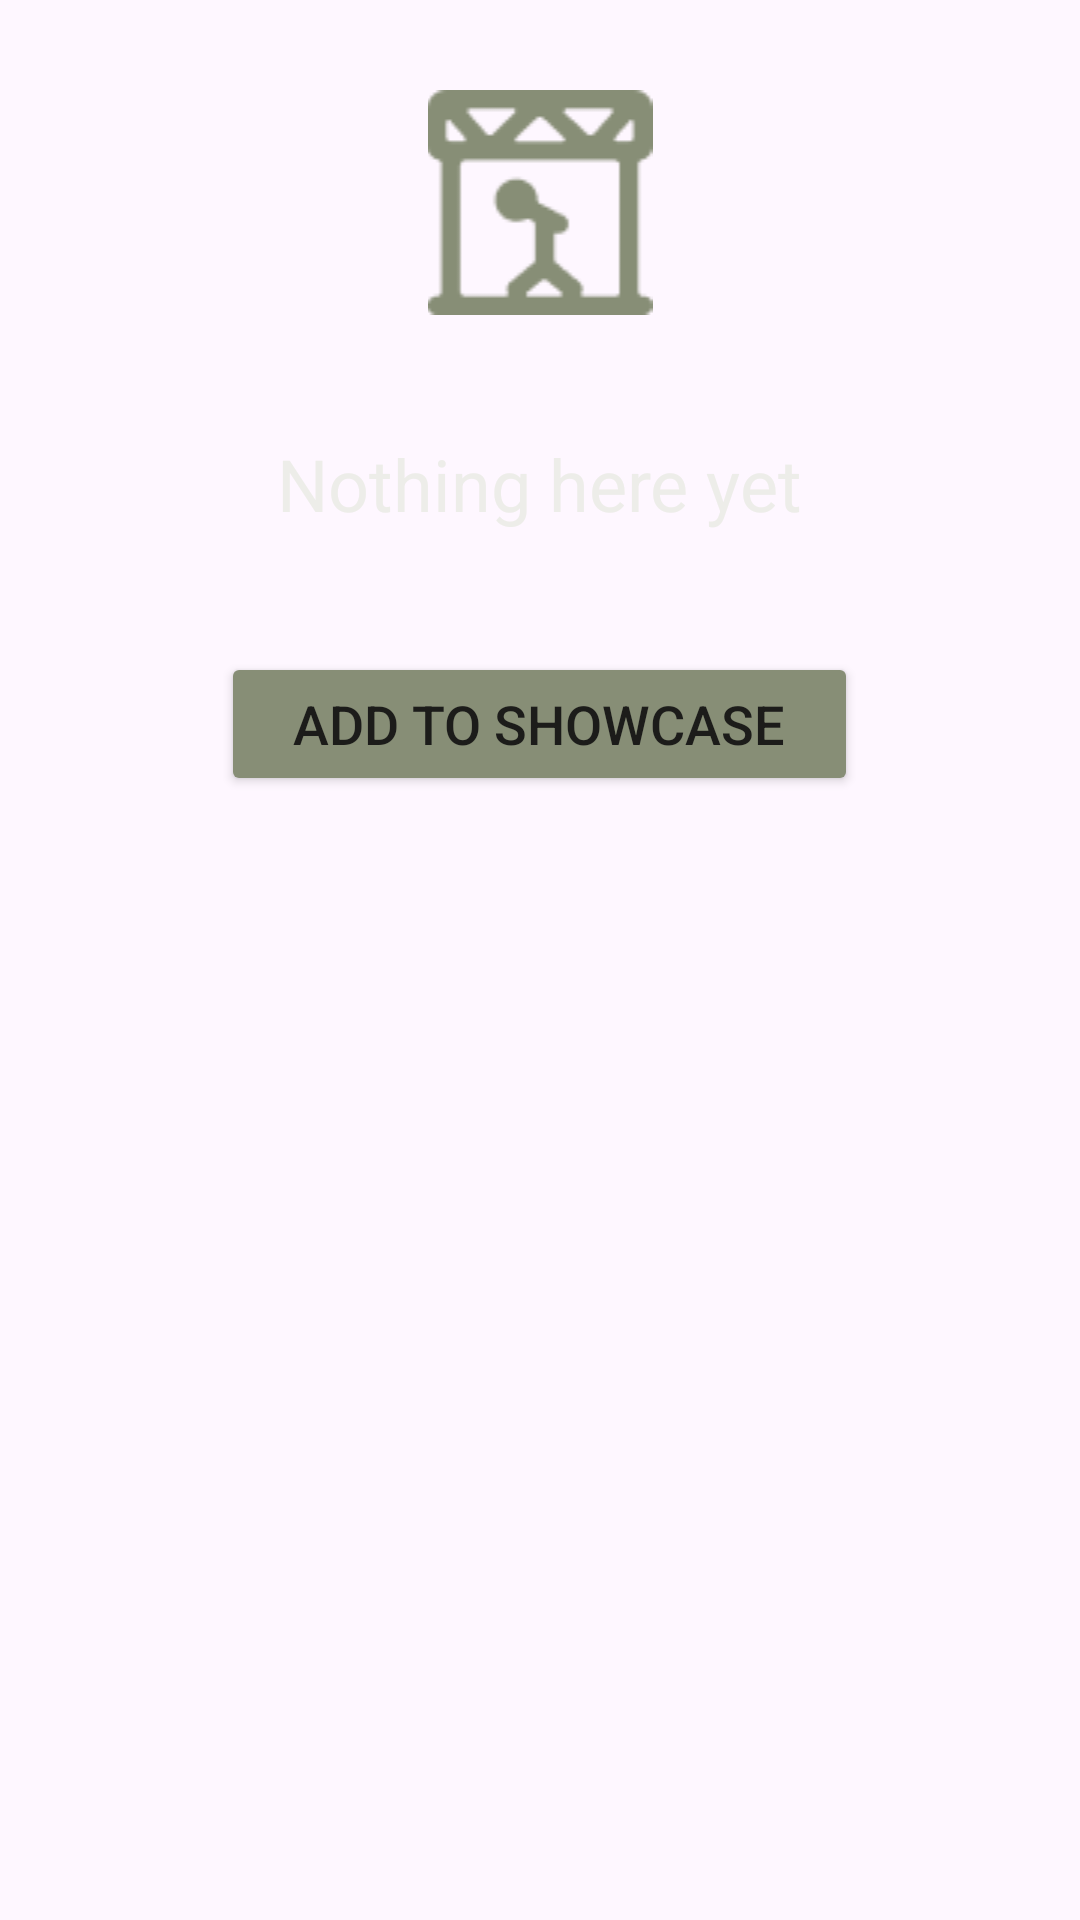

Named icons in this screenshot (1080×1920) and their bounding boxes, (x1, y1, x2, y2):
showcase: (428, 90, 653, 315)
